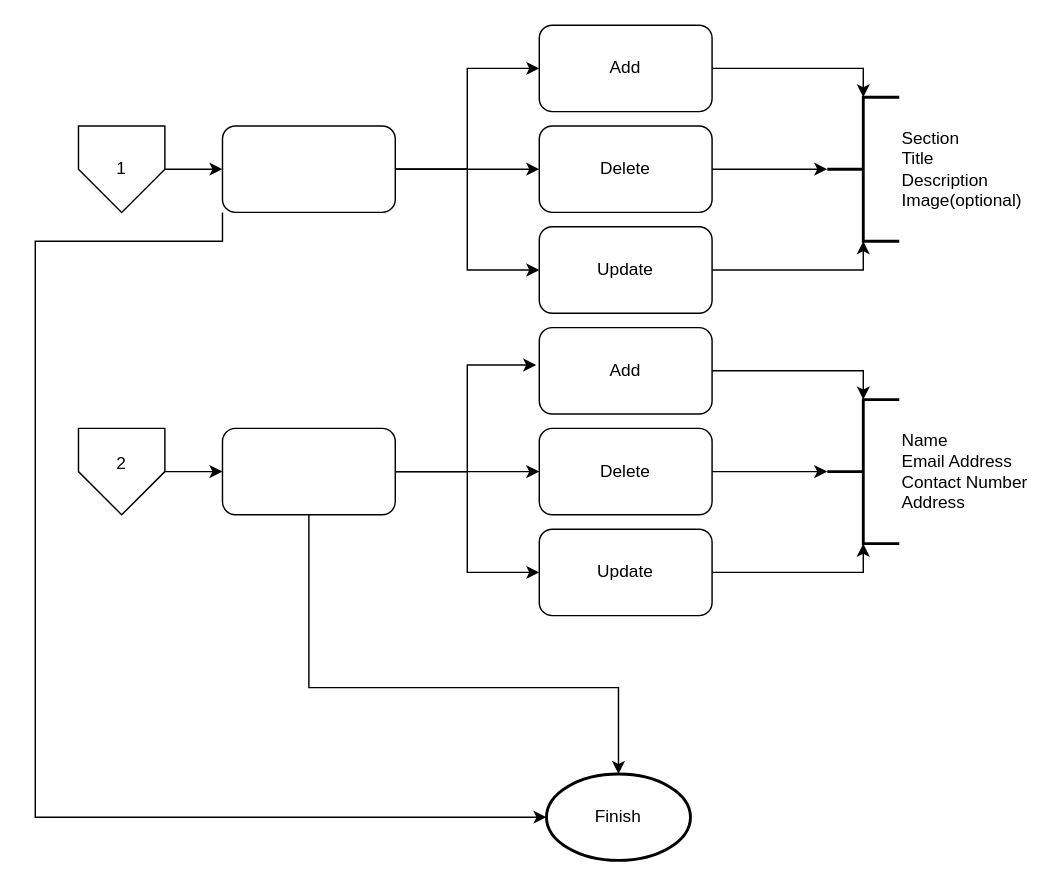
This 1053x887 diagram has some shape labels left out. Here are the shapes that lost their labels. From the top down, the centre of each, then its label:
At (308,168): "Dishes".
At (308,471): "Contact".
